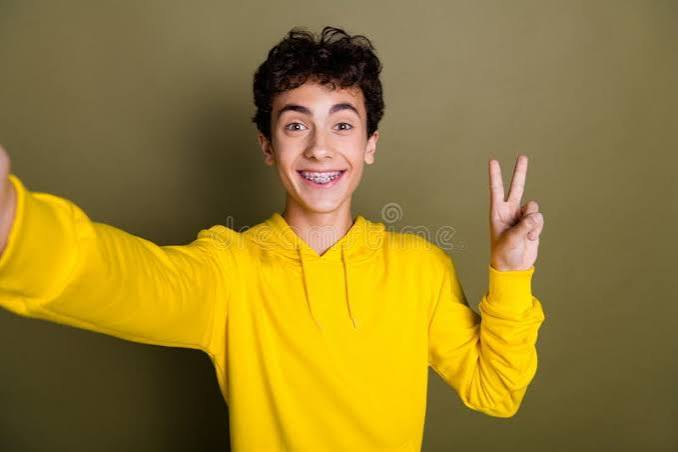peace_sign: (486, 144, 553, 272)
